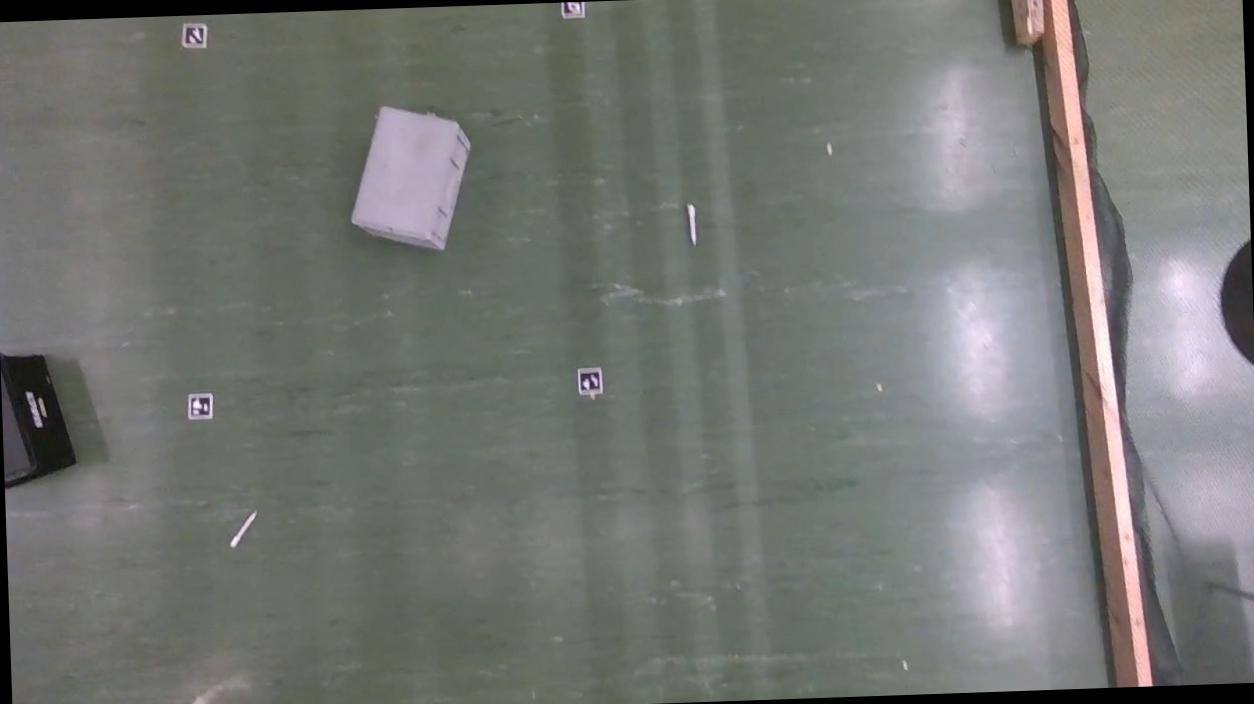probes: (231, 510, 255, 548), (688, 205, 698, 248)
rako: (347, 105, 472, 256), (0, 351, 78, 489)
